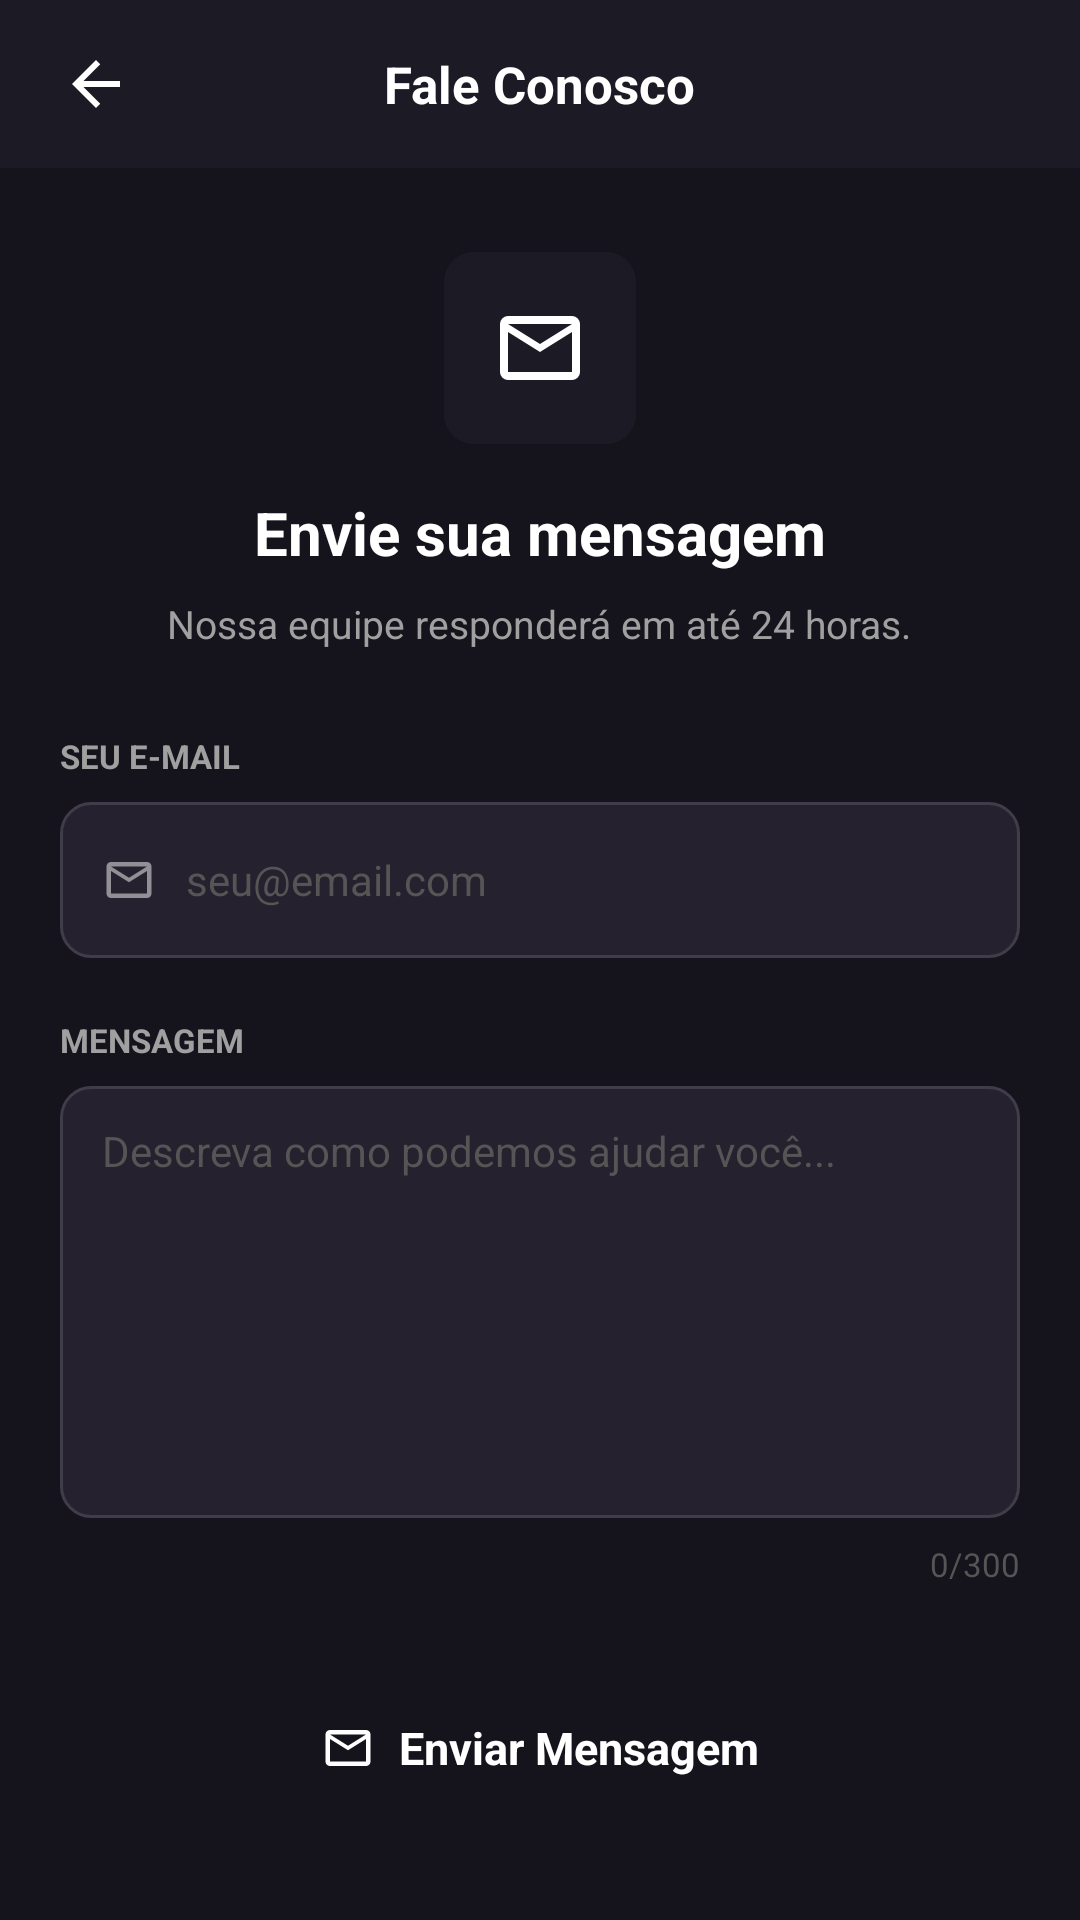

Icon bounding boxes for this 1080w x 1920h phone screenshot, format BBox(x1, y1, x2, y2):
arrow back: BBox(72, 60, 120, 108)
